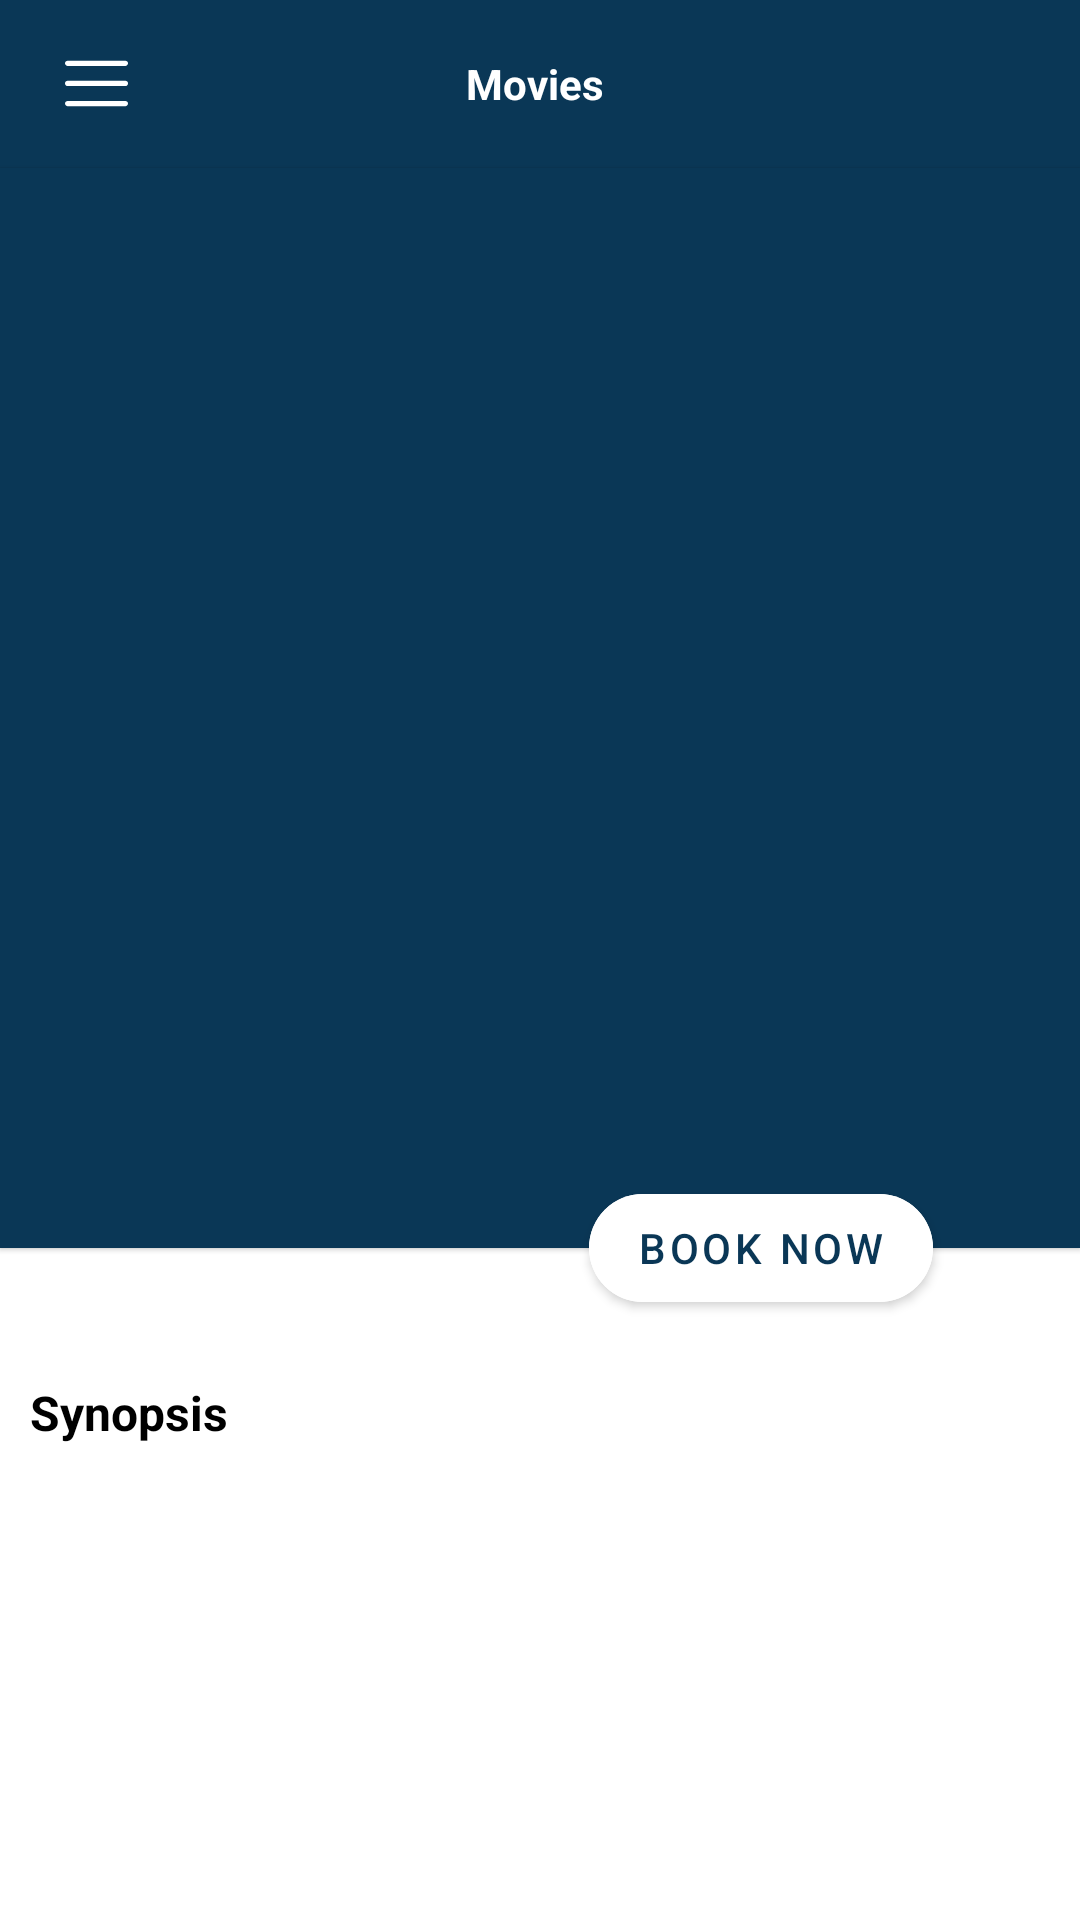

Icons on this 1080 x 1920 Android screen, each with its box as [x1,y1,x2,y2]:
menu: [65,60,128,107]
